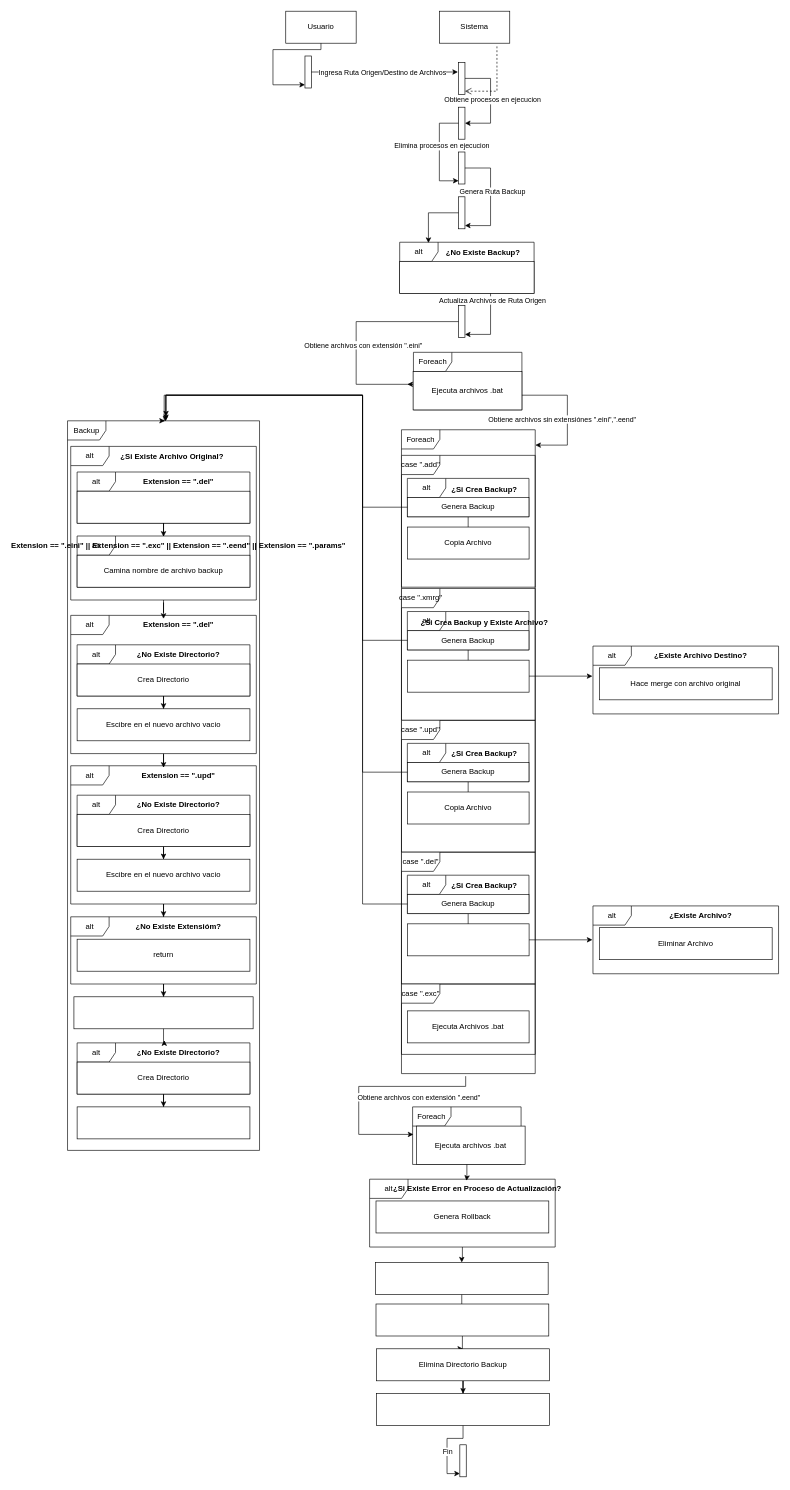
The diagram is 790 pixels wide and 1490 high, and some of its shapes have lost their labels. Here are the shapes that lost their labels. From the top down, the centre of each, then its label:
(466,277): Crea Directorio Backup
(163,507): Cambia Extensión a ".upd"
(468,676): Merge Archivo
(468,939): Remueve Archivo
(163,1012): Establece nueva ruta para archivo de backup
(163,1122): Copia Archivo a Ruta Backup
(461,1278): Elimina Contenido Archivos Backup
(462,1319): Elimina Contenido Archivos Origen
(462,1409): Elimina Directorio Archivos Origen
